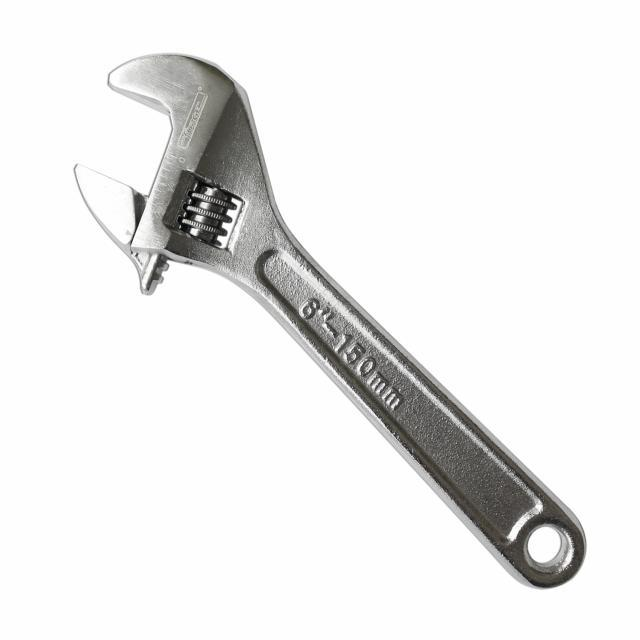wrench: (69, 46, 592, 596)
